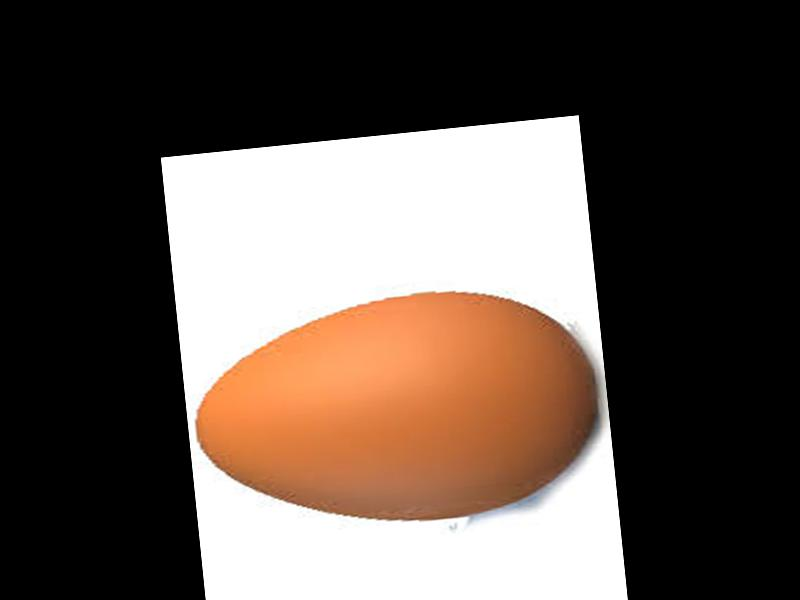Eggs: (187, 276, 608, 541)
